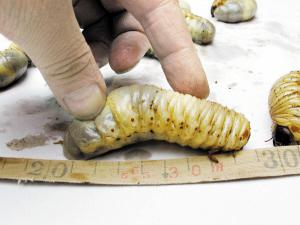grub: (61, 91, 260, 161)
